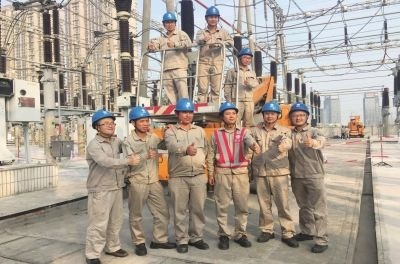blue: (92, 108, 117, 138), (174, 97, 196, 125), (129, 106, 150, 133), (218, 102, 238, 126), (289, 101, 308, 126), (262, 101, 280, 124), (204, 6, 220, 26), (162, 11, 177, 30), (238, 48, 252, 65)
